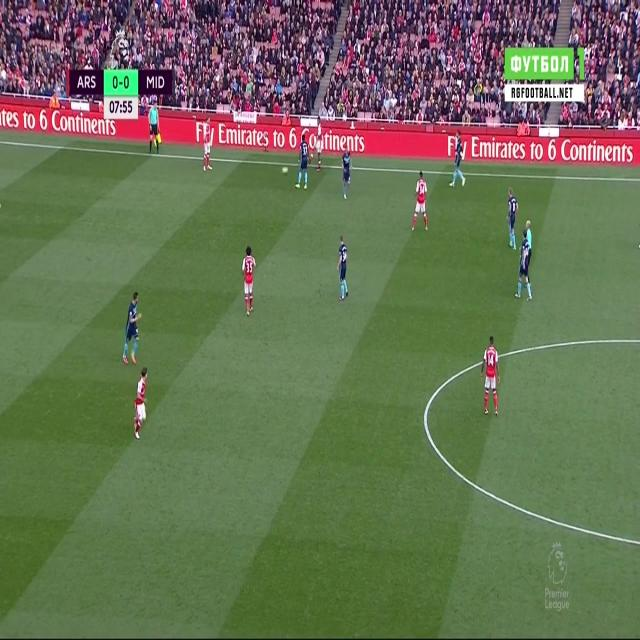Ball: (281, 163, 290, 178)
Player: (480, 334, 502, 418), (121, 288, 143, 368), (408, 170, 431, 235), (513, 234, 533, 305), (132, 365, 149, 446), (240, 245, 257, 320), (504, 184, 521, 252), (448, 131, 467, 191), (294, 130, 310, 195), (336, 233, 349, 303), (340, 146, 352, 203), (315, 114, 325, 179), (201, 120, 212, 173)
Referee: (148, 100, 161, 157), (526, 217, 534, 254)
